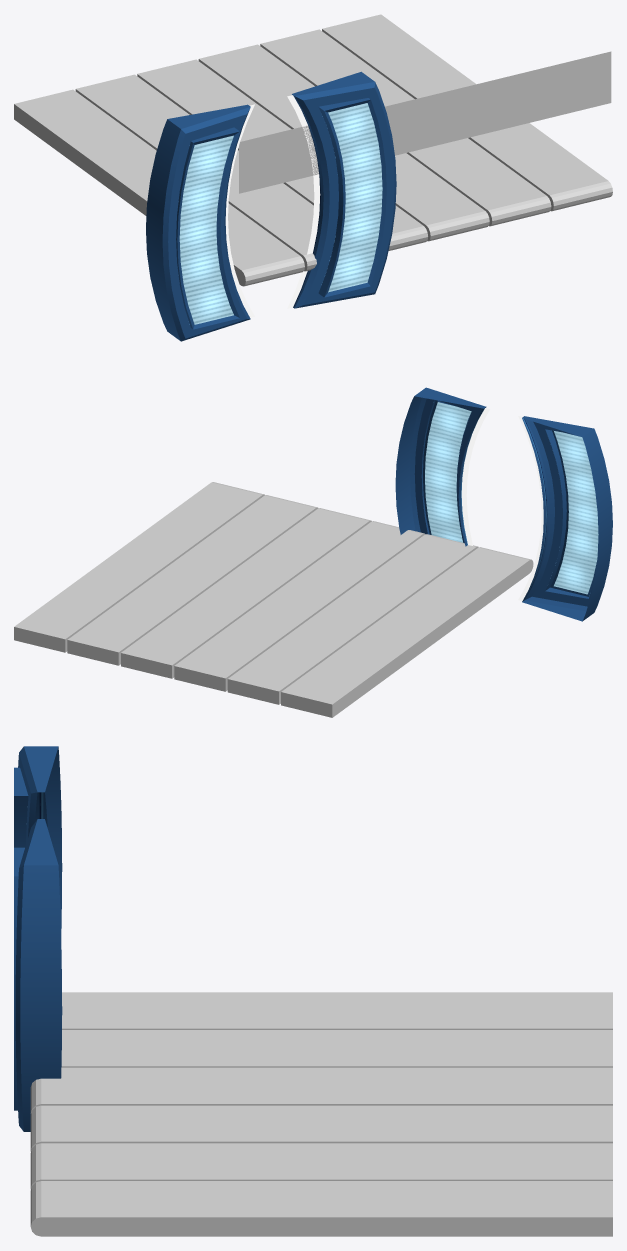
Rendered from checkpoint.glb.
3 renders of one model, top to bottom at view 1: azimuth 30°, elevation 25°; view 2: azimuth 150°, elevation 25°; view 3: azimuth 270°, elevation 25°, orthographic. The views are drawn at different scales.
Visible parts, largest first — view 1: Cube-noimp, LeftGate, RightGate, Plane-noimp, GateHalo.001, GateHalo; view 2: Cube-noimp, LeftGate, RightGate, GateHalo.001, GateHalo; view 3: Cube-noimp, RightGate, LeftGate.
Boxes of the visible parts, x1,y1,x2,y2 form: Cube-noimp: (14, 14, 612, 286); LeftGate: (146, 104, 250, 341); RightGate: (292, 71, 396, 308); Plane-noimp: (239, 51, 611, 193); GateHalo.001: (287, 95, 320, 308); GateHalo: (225, 104, 254, 317); Cube-noimp: (14, 482, 533, 717); LeftGate: (522, 416, 612, 621); RightGate: (395, 387, 486, 546); GateHalo.001: (461, 408, 489, 545); GateHalo: (518, 416, 543, 600); Cube-noimp: (30, 992, 612, 1236); RightGate: (14, 819, 62, 1131); LeftGate: (14, 746, 62, 935).
Bounding box in the file's own units: 18.55 × 8.24 × 16.77.
Materials: 2 (1 with a texture image).
